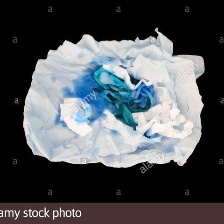tissue: (15, 22, 211, 174)
